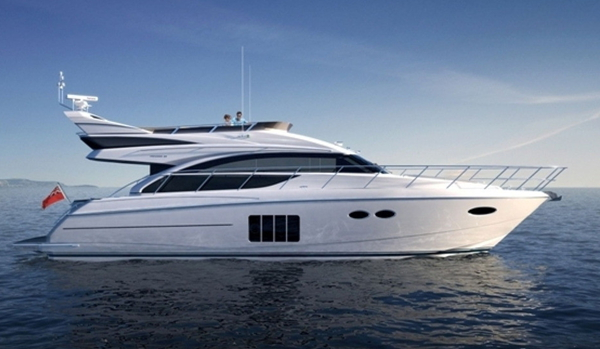yacht: (15, 74, 566, 264)
